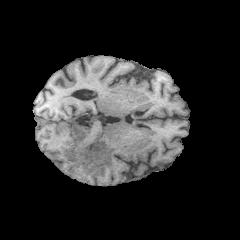glioma: (61, 125, 115, 174)
